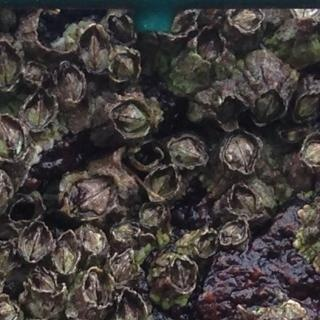Barnacle: (69, 175, 125, 219), (17, 224, 52, 268), (221, 134, 256, 175), (26, 89, 60, 129), (78, 27, 109, 70), (145, 168, 179, 202), (114, 102, 146, 138), (57, 68, 87, 105), (52, 233, 80, 272), (169, 137, 205, 167), (197, 25, 223, 64), (110, 251, 137, 287), (85, 270, 108, 312), (0, 118, 24, 158), (116, 289, 146, 320), (170, 257, 196, 292), (82, 222, 108, 257), (230, 184, 258, 216), (108, 13, 134, 46), (113, 51, 142, 80), (256, 90, 283, 120), (137, 205, 168, 231), (0, 42, 18, 86), (293, 93, 320, 121), (31, 270, 59, 295), (231, 2, 256, 28), (219, 220, 245, 243), (114, 224, 139, 245), (195, 231, 215, 256), (25, 64, 48, 83), (0, 242, 13, 273), (0, 298, 18, 320)
